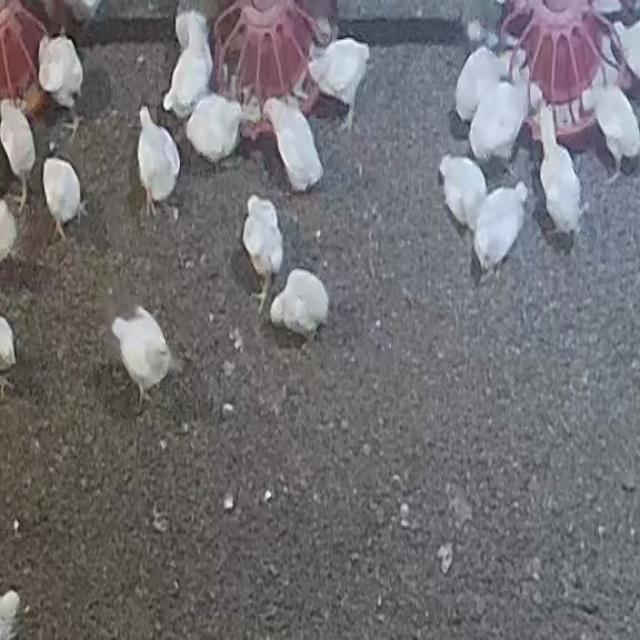chicken: (536, 109, 586, 241), (116, 310, 186, 402), (306, 37, 372, 131), (469, 74, 530, 170), (163, 10, 215, 122), (471, 183, 531, 280), (264, 97, 322, 194), (39, 28, 87, 139), (589, 79, 640, 177), (264, 266, 333, 333), (238, 193, 280, 303), (184, 94, 245, 168), (453, 44, 508, 126), (139, 104, 180, 206), (0, 100, 37, 210), (439, 153, 488, 232), (42, 156, 86, 242), (609, 18, 640, 92), (174, 8, 210, 53)
